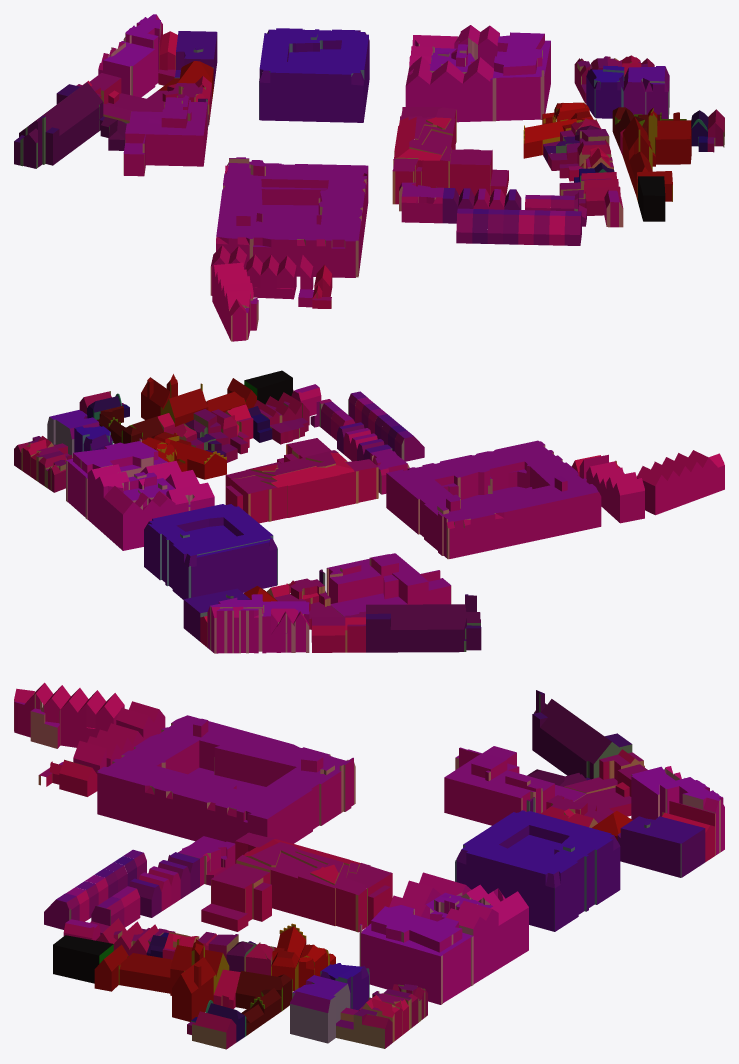
File: buildings_8_8.glb
3 views of the same model, one above another, from view 1: azimuth 30°, elevation 25°; view 2: azimuth 150°, elevation 25°; view 3: azimuth 270°, elevation 25° (orthographic). The views are drawn at different scales.
Parts seen in each view (by area): view 1: buildings_8_8; view 2: buildings_8_8; view 3: buildings_8_8.
Part boxes in pixels (x1,y1,x2,y2): buildings_8_8: [14, 14, 724, 341]; buildings_8_8: [14, 370, 724, 653]; buildings_8_8: [14, 682, 724, 1049].
Size of the model in its own units: 210 by 19.33 by 195.
